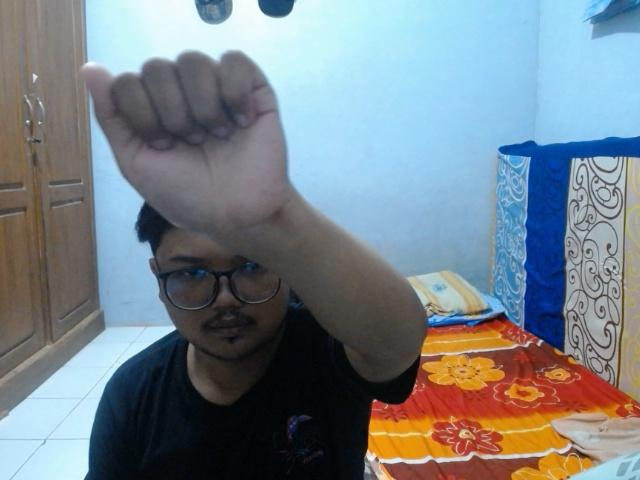Grab: (74, 42, 298, 246)
